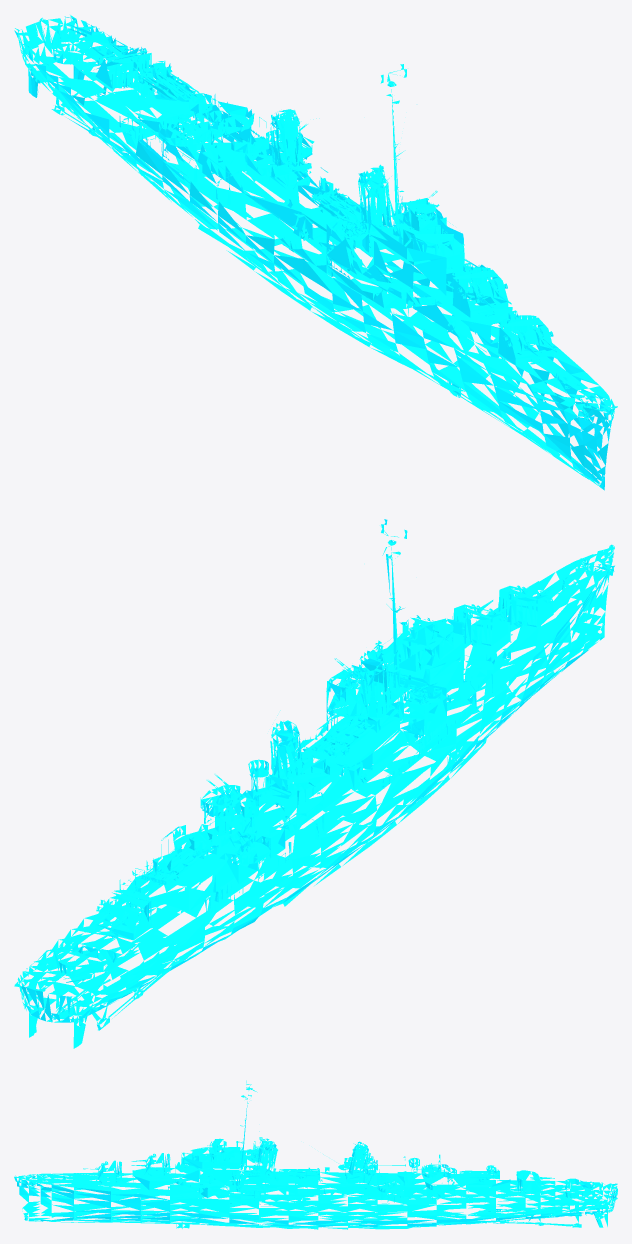
The model's file is PASD913.glb.
3 views of the same model, one above another, from view 1: azimuth 30°, elevation 25°; view 2: azimuth 150°, elevation 25°; view 3: azimuth 270°, elevation 25° (orthographic). The views are drawn at different scales.
Visible parts, largest first — view 1: hull, turret; view 2: hull, turret; view 3: hull, turret.
Part boxes in pixels (x1,y1,x2,y2): hull: (14,15,617,490); turret: (92,42,556,365); hull: (14,519,614,1048); turret: (92,581,557,940); hull: (14,1080,617,1229); turret: (83,1141,554,1194).
Size of the model in its own units: 0.8364 by 2.18 by 7.93.
